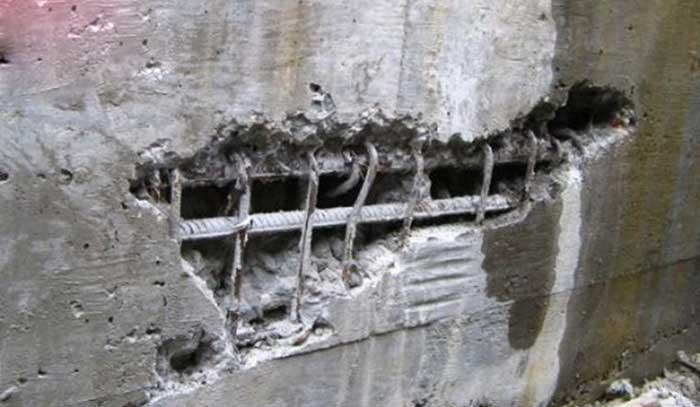Exposed reinforcement: (165, 137, 569, 190), (183, 193, 520, 242), (342, 140, 380, 284), (224, 149, 252, 341), (290, 152, 320, 325), (402, 148, 426, 240), (475, 142, 495, 226), (331, 154, 367, 196), (520, 128, 539, 202), (168, 167, 181, 245), (557, 128, 586, 155), (548, 136, 564, 173), (148, 169, 161, 203)
Spalling: (127, 79, 638, 367), (1, 1, 162, 69), (68, 242, 168, 343), (151, 324, 236, 394), (1, 166, 75, 183), (16, 368, 50, 386), (119, 200, 131, 211), (73, 368, 80, 373)
